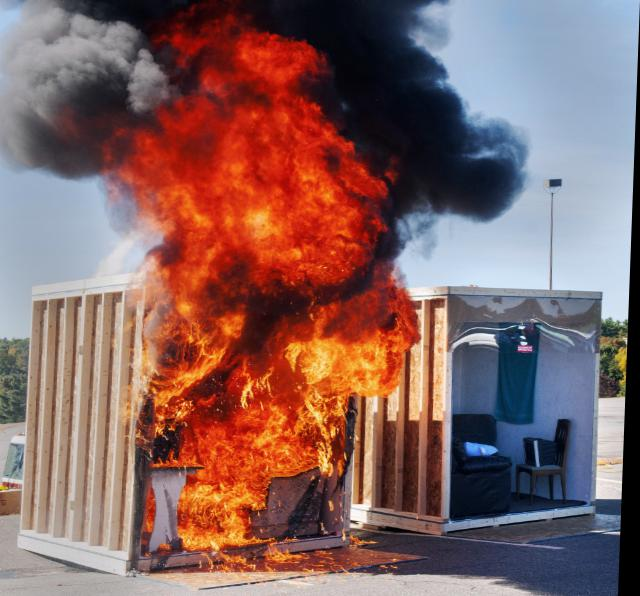fire: (99, 19, 429, 568)
